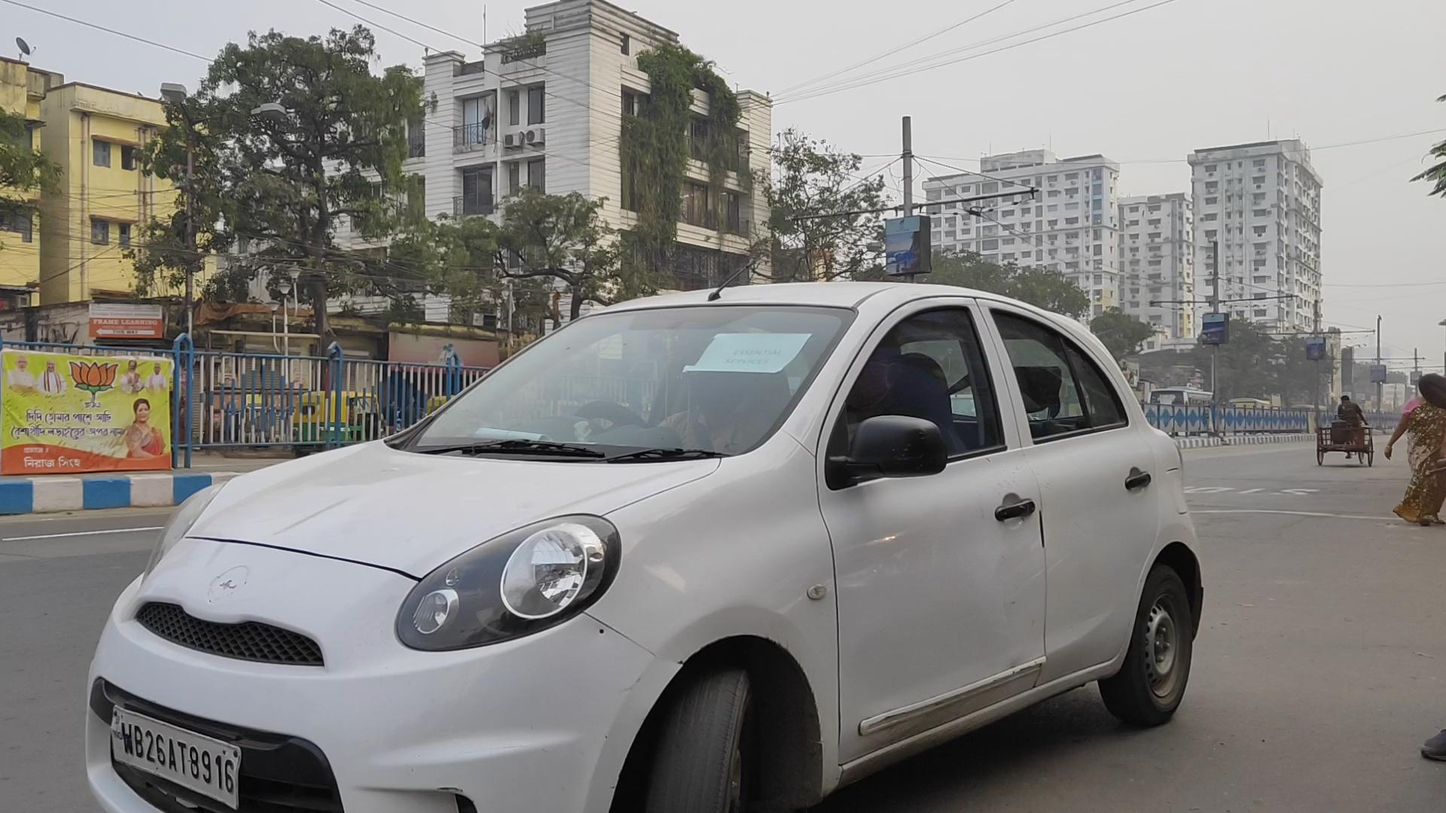car: (84, 282, 1204, 813)
